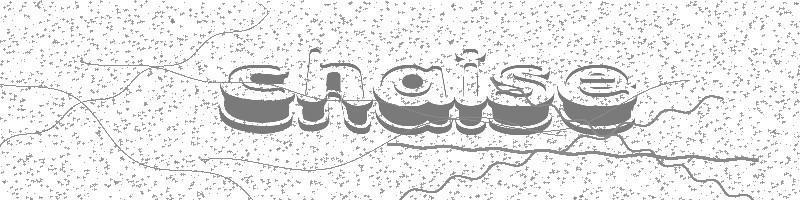a: (373, 64, 454, 136)
c: (219, 63, 295, 135)
e: (557, 64, 638, 136)
h: (296, 47, 374, 135)
i: (454, 47, 488, 137)
s: (488, 63, 556, 136)
